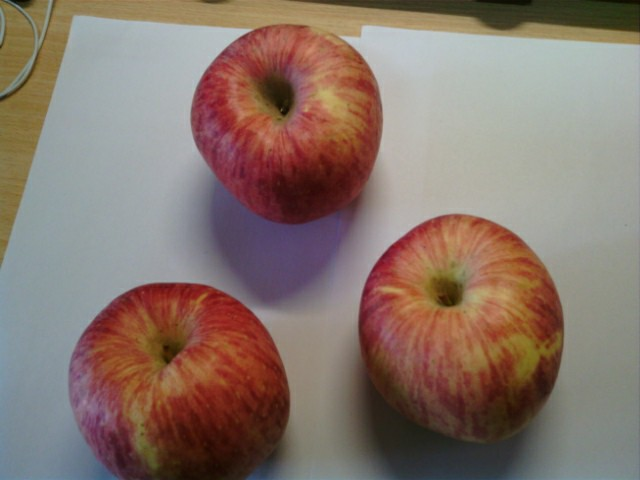normal_apple: (357, 213, 566, 442), (69, 283, 293, 480), (192, 25, 384, 223)
